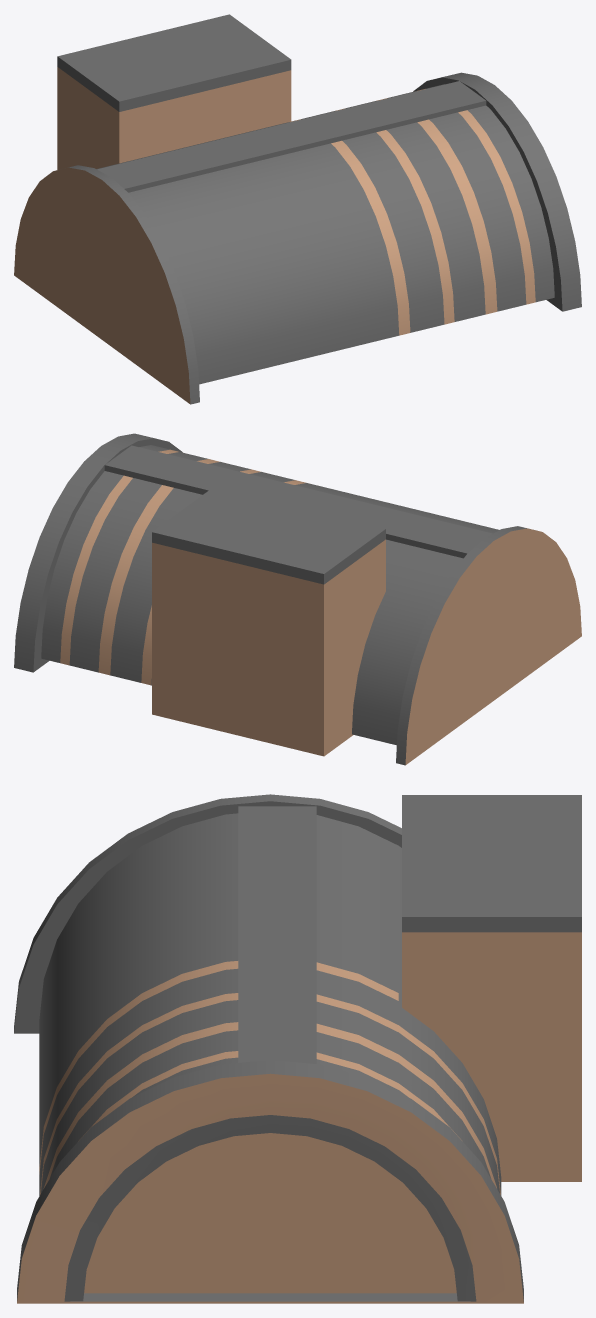
File: build.gltf
The picture shows the model from 3 angles, top to bottom: view 1: azimuth 30°, elevation 25°; view 2: azimuth 150°, elevation 25°; view 3: azimuth 270°, elevation 25°; orthographic projection. The views are drawn at different scales.
Parts seen in each view (by area): view 1: Circle, Cube, Cube.001; view 2: Circle, Cube, Cube.001; view 3: Circle, Cube, Cube.001.
Boxes of the visible parts, bbox=[...] form: Circle: bbox=[14, 72, 581, 404]; Cube: bbox=[57, 14, 291, 169]; Cube.001: bbox=[97, 81, 486, 192]; Circle: bbox=[14, 433, 581, 765]; Cube: bbox=[152, 487, 385, 756]; Cube.001: bbox=[104, 445, 492, 558]; Circle: bbox=[14, 794, 523, 1303]; Cube: bbox=[402, 795, 581, 1181]; Cube.001: bbox=[238, 806, 316, 1063].
Bounding box in the file's own units: 15.91 × 7.36 × 13.73.
